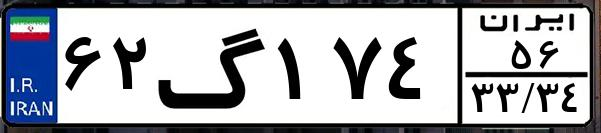1: (270, 28, 330, 110)
2: (110, 28, 156, 98)
3: (470, 70, 495, 125), (495, 70, 520, 125), (535, 70, 560, 125)
4: (385, 28, 445, 110), (560, 70, 590, 125)
5: (508, 27, 537, 80)
6: (57, 26, 110, 100), (537, 27, 568, 80)
7: (330, 28, 385, 110)
گ: (156, 12, 270, 120)
